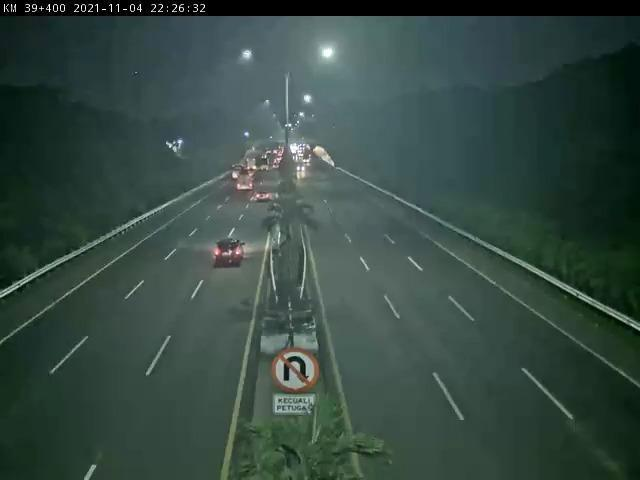car: (209, 233, 258, 278), (253, 180, 281, 207)
